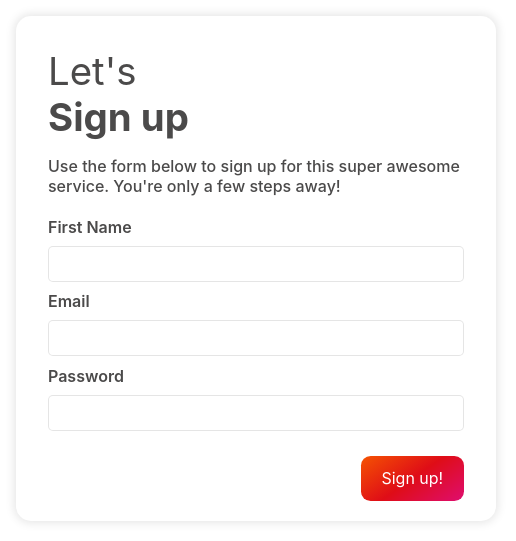
Scenario: basic email validation
In the field with test id "firstNameField": point(256, 264) [48, 246, 464, 282], type "Test User"
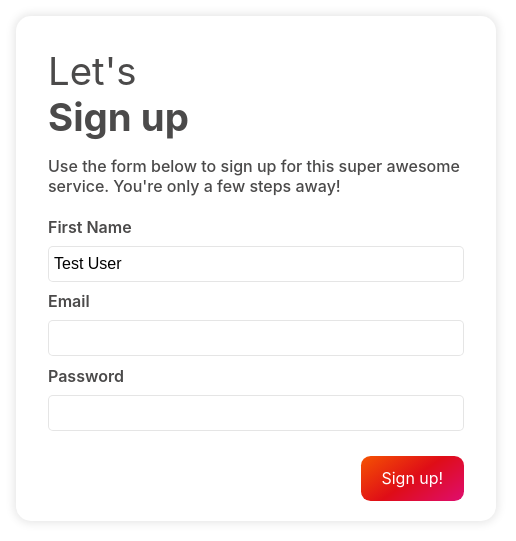
In the field with test id "emailField": point(256, 338) [48, 320, 464, 356], type "notanemail"
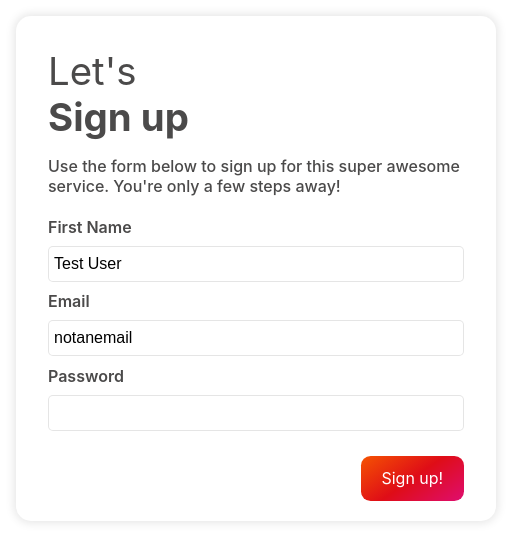
In the password field with test id "passwordField": point(256, 413) [48, 395, 464, 431], type "supersecretpassword"
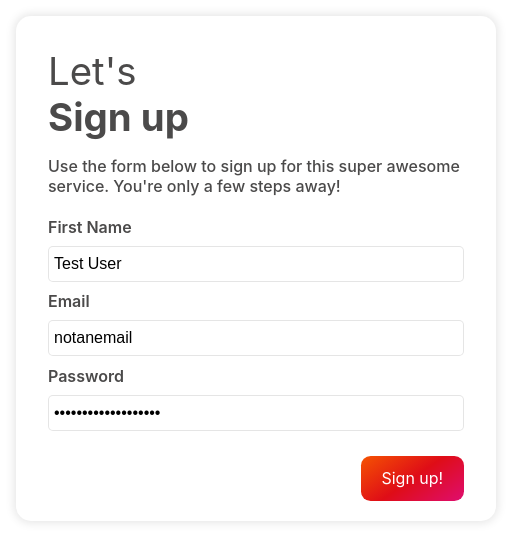
Click the button with test id "button": point(412, 478) [361, 456, 464, 501]
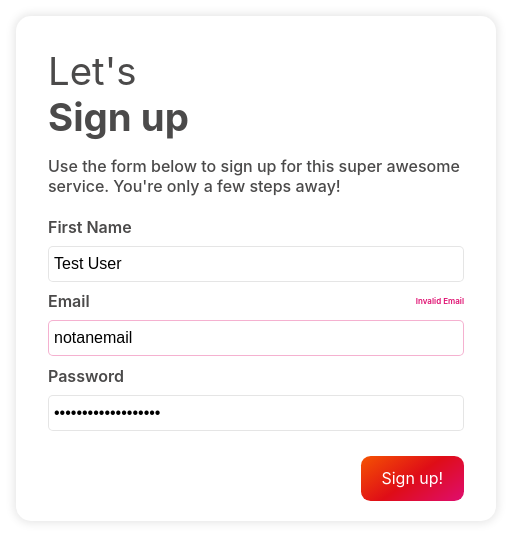
Expected: the element with test id "email" shows "Invalid", [416, 296, 464, 306]
